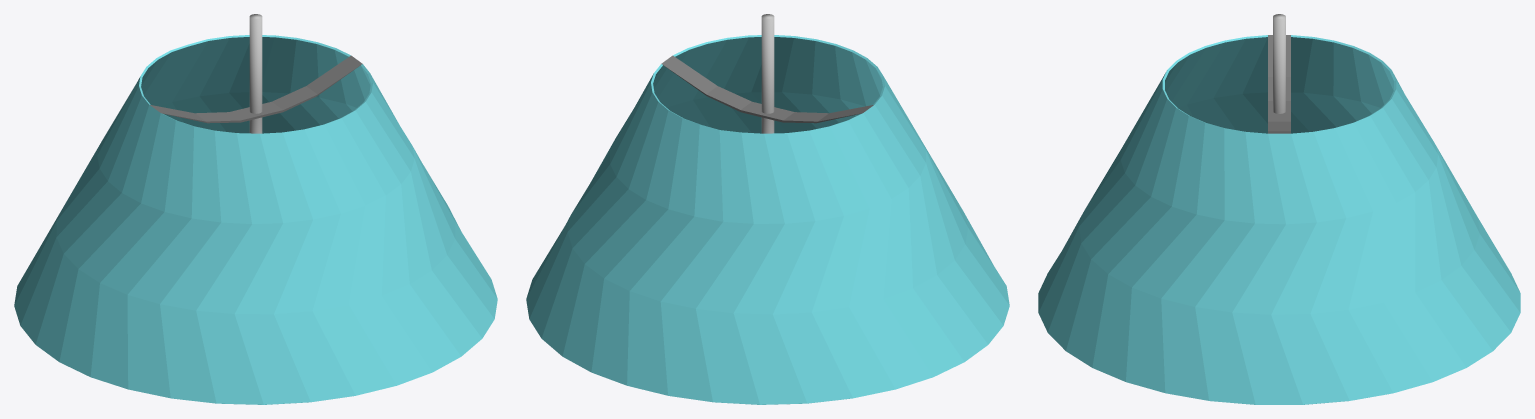
Rendered from lamp.glb.
3 views of the same model, side by side, from view 1: azimuth 30°, elevation 25°; view 2: azimuth 150°, elevation 25°; view 3: azimuth 270°, elevation 25° (orthographic).
Parts seen in each view (by area): view 1: LampShade; view 2: LampShade; view 3: LampShade.
Boxes of the visible parts, x1=… form: LampShade: x1=14, y1=14, x2=497, y2=404; LampShade: x1=526, y1=14, x2=1009, y2=404; LampShade: x1=1038, y1=14, x2=1520, y2=404.
Size of the model in its own units: 0.8411 by 0.5531 by 0.8411.
